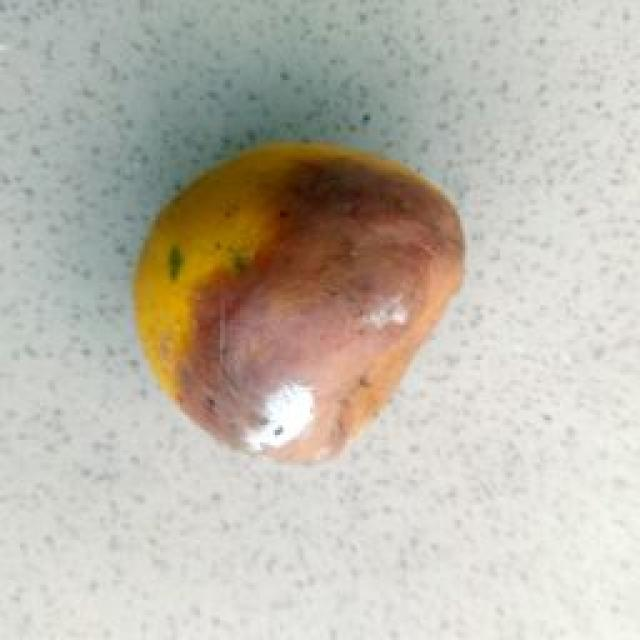Bad_Orange: (135, 142, 464, 461)
